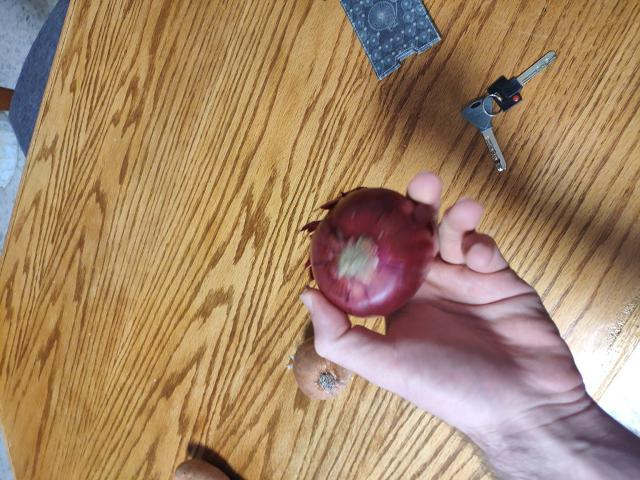onion: (289, 342, 372, 421)
